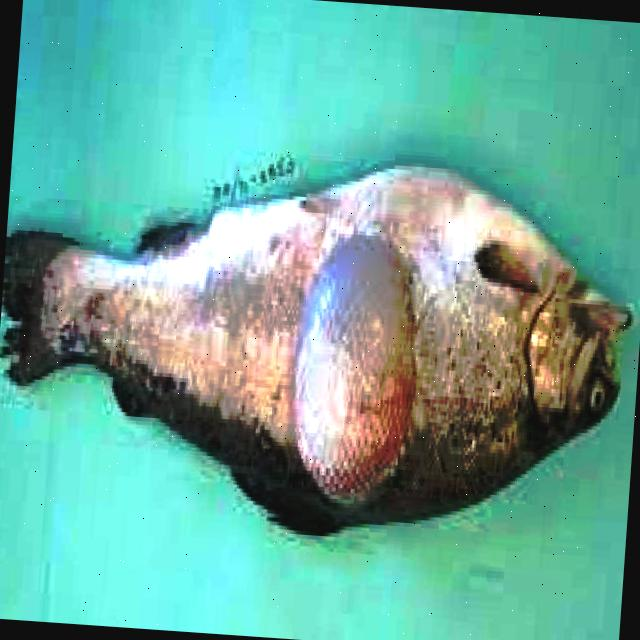Epizootic Ulcerative Syndrome -EUS-: (1, 166, 630, 535), (1, 167, 630, 535)
